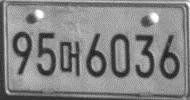0: (108, 32, 131, 78)
3: (134, 34, 155, 78)
5: (36, 31, 57, 76)
6: (157, 33, 181, 80), (84, 31, 107, 78)
9: (10, 30, 33, 76)
머: (59, 40, 81, 78)
